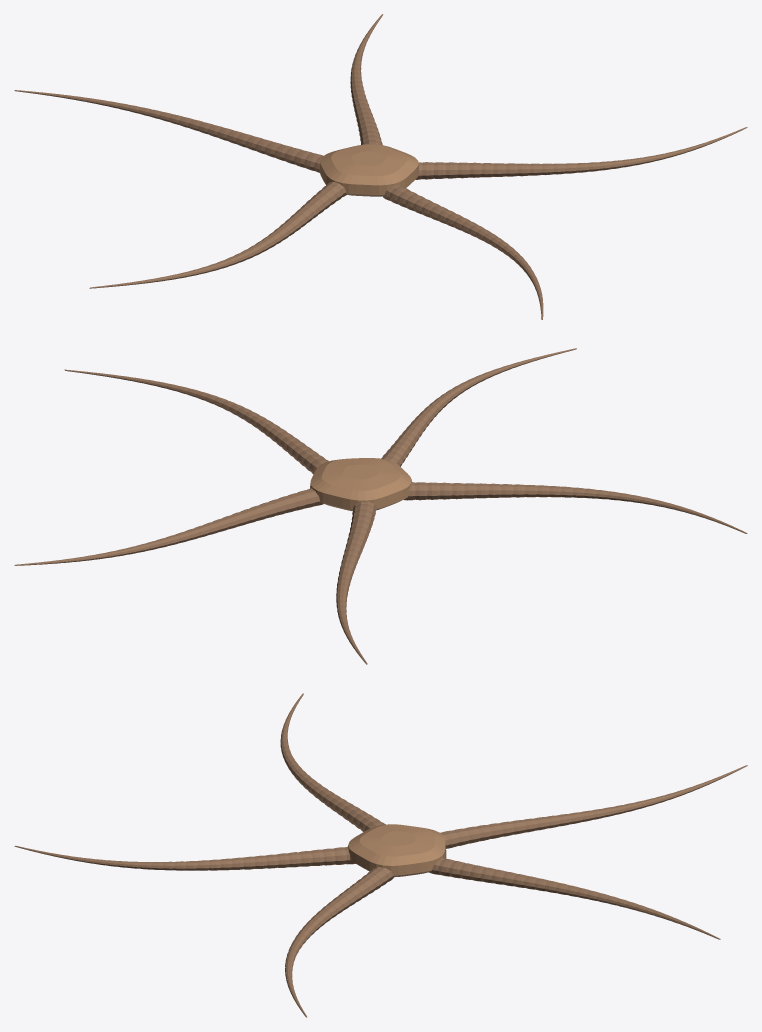
The picture shows the model from 3 angles, top to bottom: view 1: azimuth 30°, elevation 25°; view 2: azimuth 150°, elevation 25°; view 3: azimuth 270°, elevation 25°; orthographic projection. The views are drawn at different scales.
Visible parts, largest first — view 1: disc-softpentagonal, arm-2-articulated, arm-4-articulated, arm-5-articulated, arm-1-articulated, arm-3-articulated; view 2: disc-softpentagonal, arm-5-articulated, arm-3-articulated, arm-2-articulated, arm-4-articulated, arm-1-articulated; view 3: disc-softpentagonal, arm-1-articulated, arm-4-articulated, arm-3-articulated, arm-2-articulated, arm-5-articulated.
Boxes of the visible parts, <box> form: disc-softpentagonal: <box>319,144,418,196</box>; arm-2-articulated: <box>415,127,747,179</box>; arm-4-articulated: <box>14,90,323,172</box>; arm-5-articulated: <box>89,181,346,288</box>; arm-1-articulated: <box>382,185,543,319</box>; arm-3-articulated: <box>350,14,383,144</box>; disc-softpentagonal: <box>310,458,411,511</box>; arm-5-articulated: <box>403,482,747,533</box>; arm-3-articulated: <box>14,488,323,565</box>; arm-2-articulated: <box>64,369,328,474</box>; arm-4-articulated: <box>336,501,376,664</box>; arm-1-articulated: <box>381,348,576,466</box>; disc-softpentagonal: <box>348,824,446,877</box>; arm-1-articulated: <box>14,845,355,870</box>; arm-4-articulated: <box>440,765,747,848</box>; arm-3-articulated: <box>428,857,720,939</box>; arm-2-articulated: <box>285,867,394,1017</box>; arm-5-articulated: <box>280,693,385,831</box>.
Bounding box in the file's own units: 0.148 × 0.00511 × 0.1421.
